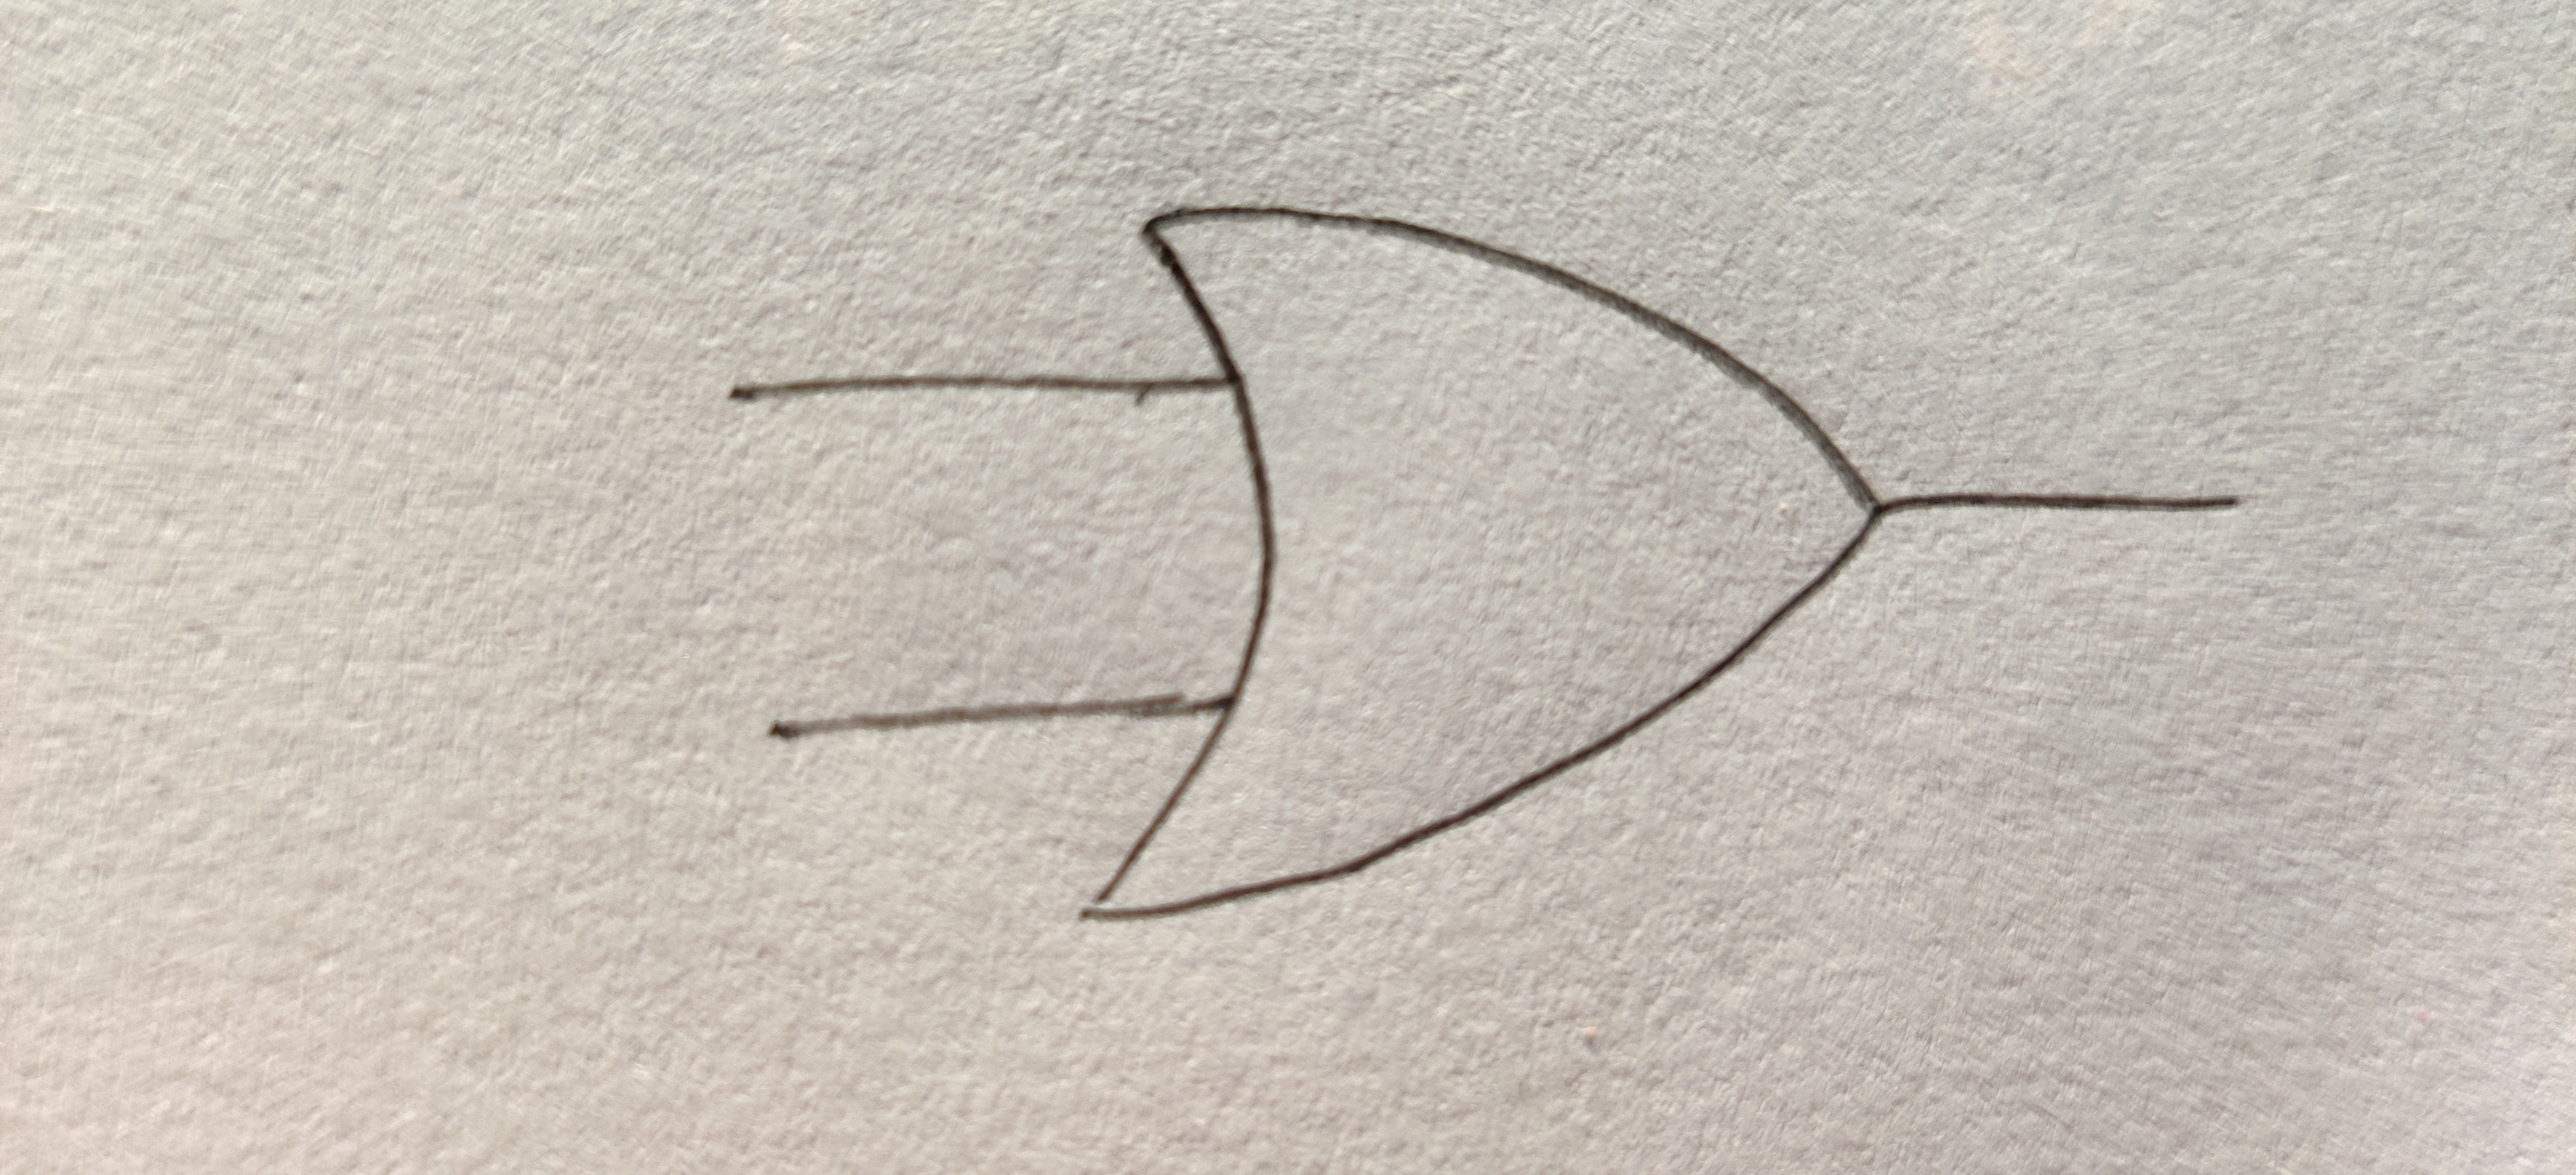or: (1083, 205, 1881, 920)
